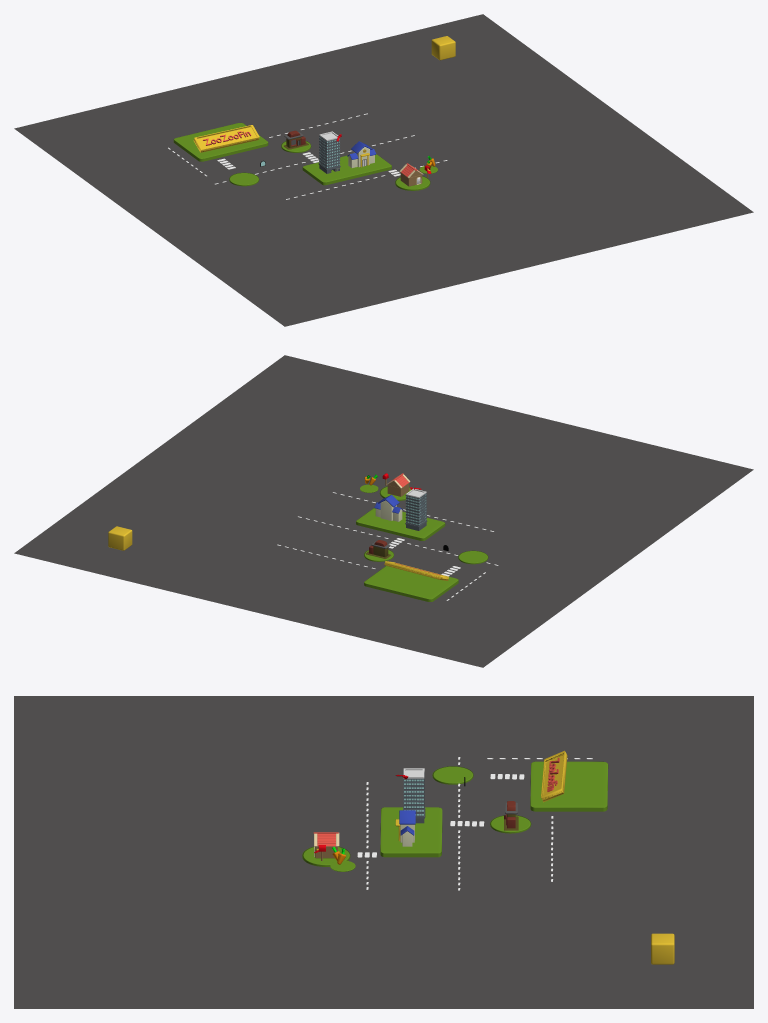
The model's file is maptest2.gltf.
The picture shows the model from 3 angles, top to bottom: view 1: azimuth 30°, elevation 25°; view 2: azimuth 150°, elevation 25°; view 3: azimuth 270°, elevation 25°; orthographic projection. The views are drawn at different scales.
Parts seen in each view (by area): view 1: Ground, FloorBankStock.001, FloorBankStock, Logo, BodyMain; view 2: Ground, FloorBankStock.001, FloorBankStock, BodyMain; view 3: Ground, FloorBankStock.001, FloorBankStock, Logo, BodyMain, Cube.017, Floor2.001.
Part boxes in pixels (x1,y1,x2,y2): Ground: [14, 14, 753, 326]; FloorBankStock.001: [173, 123, 268, 161]; FloorBankStock: [302, 154, 391, 185]; Logo: [193, 125, 259, 152]; BodyMain: [319, 135, 340, 168]; Ground: [14, 355, 753, 667]; FloorBankStock.001: [364, 566, 458, 601]; FloorBankStock: [356, 508, 445, 540]; BodyMain: [405, 493, 426, 525]; Ground: [14, 696, 753, 1008]; FloorBankStock.001: [530, 761, 608, 811]; FloorBankStock: [380, 807, 442, 857]; Logo: [541, 750, 567, 802]; BodyMain: [403, 770, 424, 816]; Cube.017: [651, 933, 674, 964]; Floor2.001: [432, 766, 473, 784].
Bounding box in the file's own units: 45.62 × 3.57 × 45.62.
